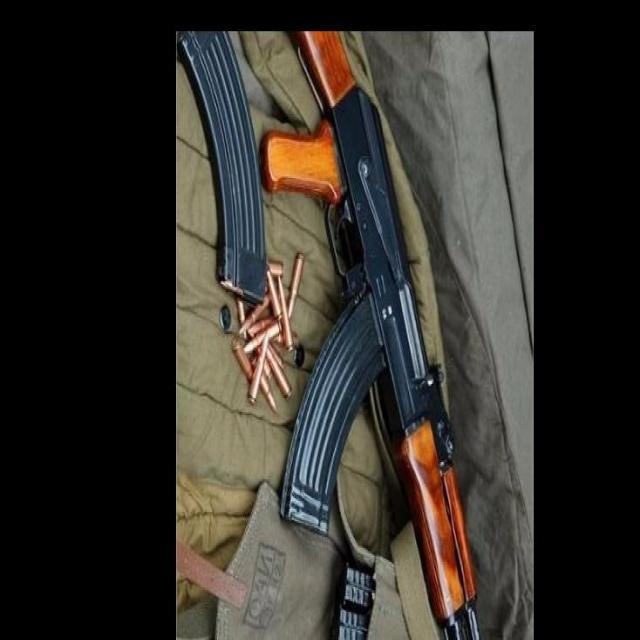weapon: (258, 31, 482, 640)
